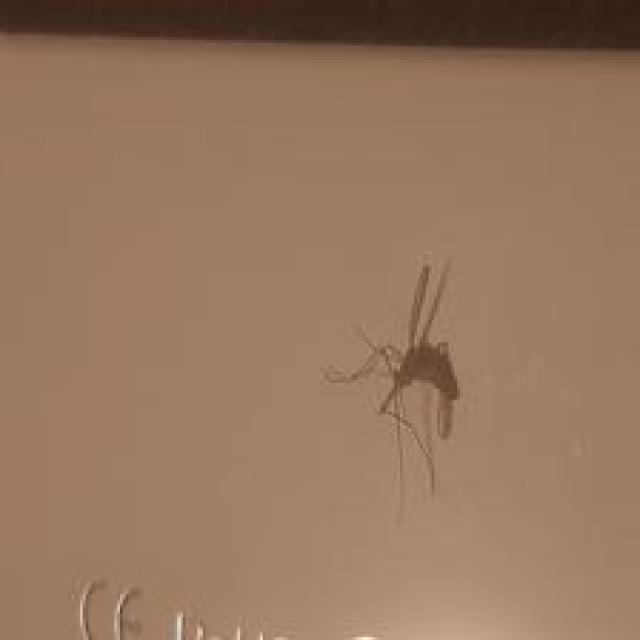Culex: (320, 256, 463, 521)
